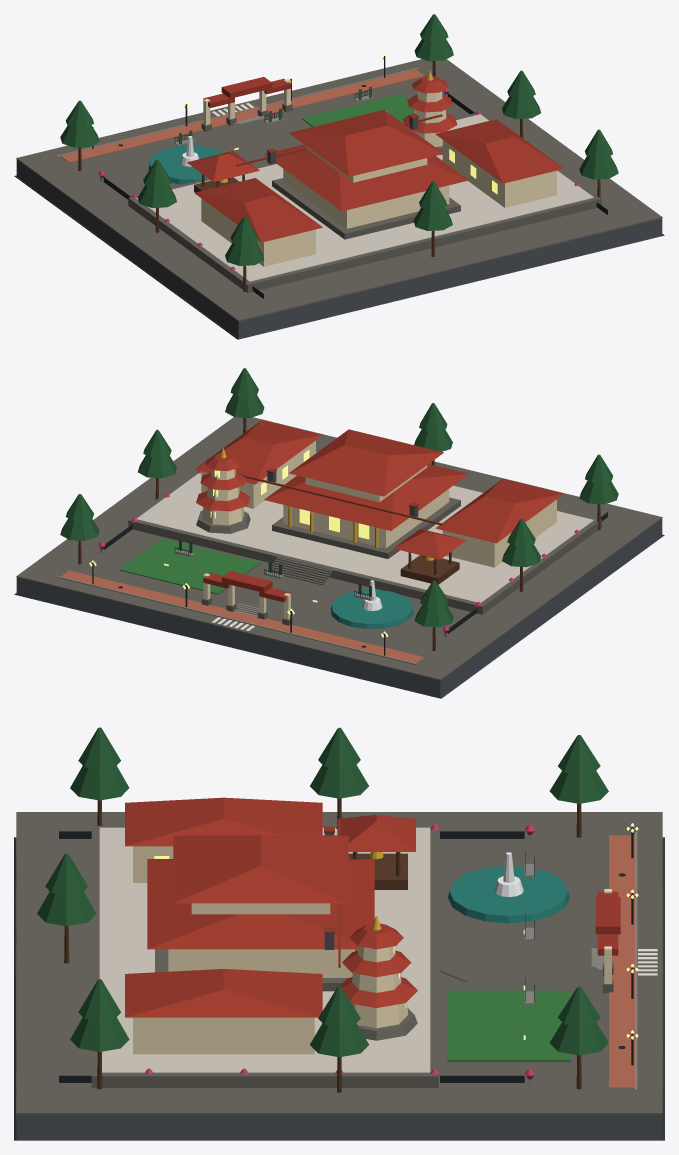
File: lm_50_chua_linh_phong_su_nu.glb
3 views of the same model, one above another, from view 1: azimuth 30°, elevation 25°; view 2: azimuth 150°, elevation 25°; view 3: azimuth 270°, elevation 25° (orthographic). The views are drawn at different scales.
Visible parts, largest first — view 1: Foundation_Plinth_Trim, Foundation_Skirt, LinhPhong_Courtyard_Paving, LinhPhong_Ochre_Walls, LinhPhong_Pine_Canopies, LinhPhong_Stone_Terrace_And_Steps, LinhPhong_Main_Hall_Upper_Roof, LinhPhong_Main_Hall_Lower_Roof, LinhPhong_Nunnery_Wing_Roof_East_Nunnery, LinhPhong_Nunnery_Wing_Roof_West_Nunnery, Phase2_Interlocking_Brick_Sidewalk, LinhPhong_Crimson_Roofs (+6 smaller); view 2: Foundation_Plinth_Trim, Foundation_Skirt, LinhPhong_Courtyard_Paving, LinhPhong_Stone_Terrace_And_Steps, LinhPhong_Pine_Canopies, LinhPhong_Ochre_Walls, LinhPhong_Main_Hall_Upper_Roof, LinhPhong_Main_Hall_Lower_Roof, LinhPhong_Nunnery_Wing_Roof_West_Nunnery, LinhPhong_Garden_Lawns, LinhPhong_Nunnery_Wing_Roof_East_Nunnery, Phase2_Interlocking_Brick_Sidewalk (+8 smaller); view 3: Foundation_Plinth_Trim, LinhPhong_Courtyard_Paving, Foundation_Skirt, LinhPhong_Pine_Canopies, LinhPhong_Ochre_Walls, LinhPhong_Main_Hall_Upper_Roof, LinhPhong_Stone_Terrace_And_Steps, LinhPhong_Main_Hall_Lower_Roof, LinhPhong_Nunnery_Wing_Roof_East_Nunnery, LinhPhong_Garden_Lawns, LinhPhong_Nunnery_Wing_Roof_West_Nunnery, Phase2_Interlocking_Brick_Sidewalk (+7 smaller).
Part boxes in pixels (x1,y1,x2,y2): Foundation_Plinth_Trim: [16, 59, 662, 321]; Foundation_Skirt: [14, 160, 664, 339]; LinhPhong_Courtyard_Paving: [136, 114, 593, 281]; LinhPhong_Ochre_Walls: [201, 79, 556, 266]; LinhPhong_Pine_Canopies: [60, 14, 618, 265]; LinhPhong_Stone_Terrace_And_Steps: [128, 103, 601, 292]; LinhPhong_Main_Hall_Upper_Roof: [289, 110, 443, 176]; LinhPhong_Main_Hall_Lower_Roof: [264, 144, 468, 211]; LinhPhong_Nunnery_Wing_Roof_East_Nunnery: [435, 119, 563, 183]; LinhPhong_Nunnery_Wing_Roof_West_Nunnery: [194, 178, 322, 242]; Phase2_Interlocking_Brick_Sidewalk: [60, 69, 424, 162]; LinhPhong_Crimson_Roofs: [203, 75, 457, 133]; Foundation_Plinth_Trim: [16, 417, 662, 680]; Foundation_Skirt: [14, 519, 664, 698]; LinhPhong_Courtyard_Paving: [136, 452, 593, 602]; LinhPhong_Stone_Terrace_And_Steps: [128, 449, 601, 625]; LinhPhong_Pine_Canopies: [60, 368, 618, 627]; LinhPhong_Ochre_Walls: [201, 440, 556, 619]; LinhPhong_Main_Hall_Upper_Roof: [289, 429, 443, 496]; LinhPhong_Main_Hall_Lower_Roof: [264, 464, 468, 530]; LinhPhong_Nunnery_Wing_Roof_West_Nunnery: [435, 479, 563, 543]; LinhPhong_Garden_Lawns: [119, 538, 260, 594]; LinhPhong_Nunnery_Wing_Roof_East_Nunnery: [194, 420, 322, 484]; Phase2_Interlocking_Brick_Sidewalk: [61, 570, 424, 663]; Foundation_Plinth_Trim: [16, 812, 662, 1114]; LinhPhong_Courtyard_Paving: [99, 827, 430, 1072]; Foundation_Skirt: [14, 837, 664, 1140]; LinhPhong_Pine_Canopies: [37, 727, 608, 1057]; LinhPhong_Ochre_Walls: [133, 846, 611, 1054]; LinhPhong_Main_Hall_Upper_Roof: [173, 835, 348, 903]; LinhPhong_Stone_Terrace_And_Steps: [91, 825, 613, 1087]; LinhPhong_Main_Hall_Lower_Roof: [147, 859, 374, 949]; LinhPhong_Nunnery_Wing_Roof_East_Nunnery: [125, 969, 322, 1017]; LinhPhong_Garden_Lawns: [447, 990, 570, 1061]; LinhPhong_Nunnery_Wing_Roof_West_Nunnery: [125, 797, 322, 846]; Phase2_Interlocking_Brick_Sidewalk: [609, 835, 634, 1088].
Bounding box in the file's own units: 86.83 × 19.5 × 78.75.
